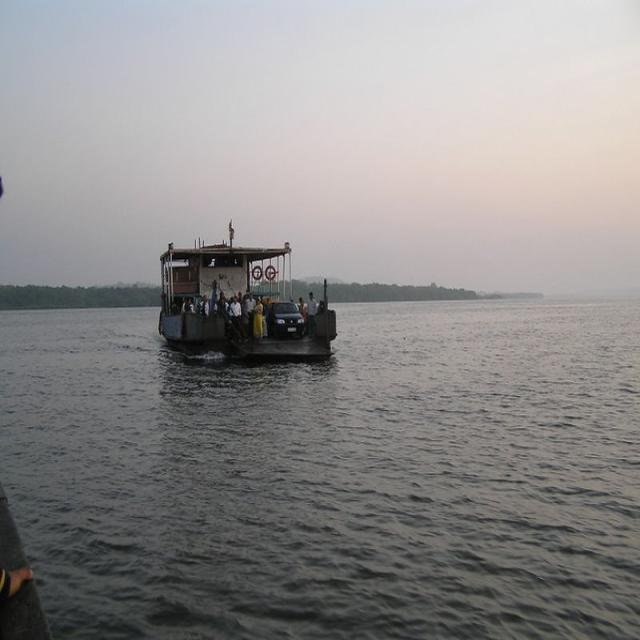cargoship: (134, 247, 357, 380)
